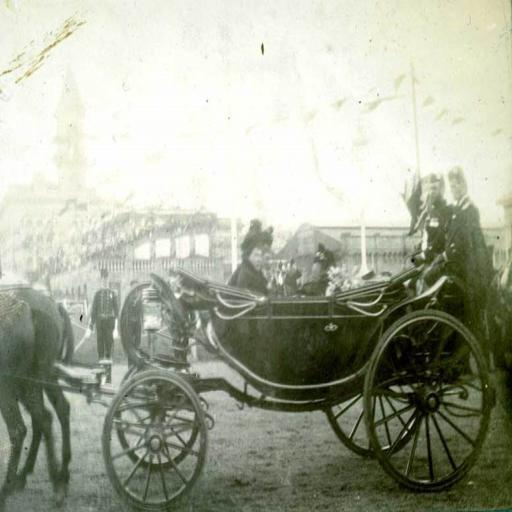horse: (2, 283, 74, 491), (0, 291, 61, 511)
